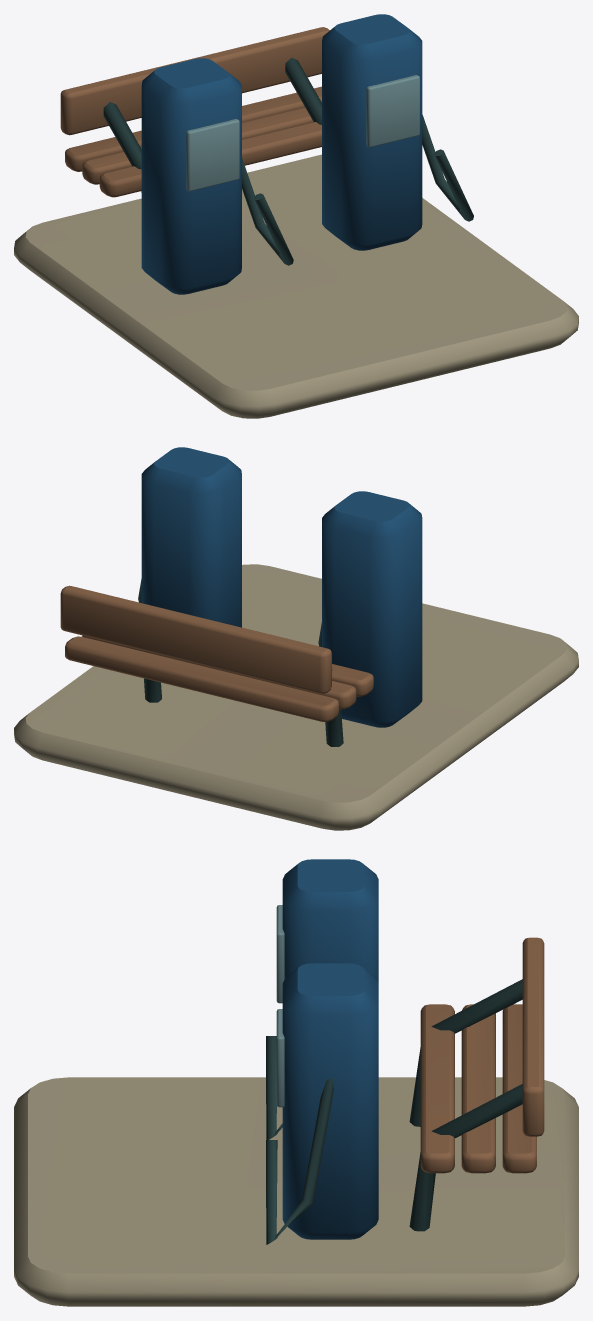
File: metro_charge_1.glb
3 renders of one model, top to bottom at view 1: azimuth 30°, elevation 25°; view 2: azimuth 150°, elevation 25°; view 3: azimuth 270°, elevation 25°, orthographic. The views are drawn at different scales.
Visible parts, largest first — view 1: Charge1; view 2: Charge1; view 3: Charge1.
Boxes of the visible parts, x1,y1,x2,y2 form: Charge1: (14,14,578,418); Charge1: (14,447,578,830); Charge1: (14,859,578,1306).
Bounding box in the file's own units: 2.16 × 1.36 × 2.48.
